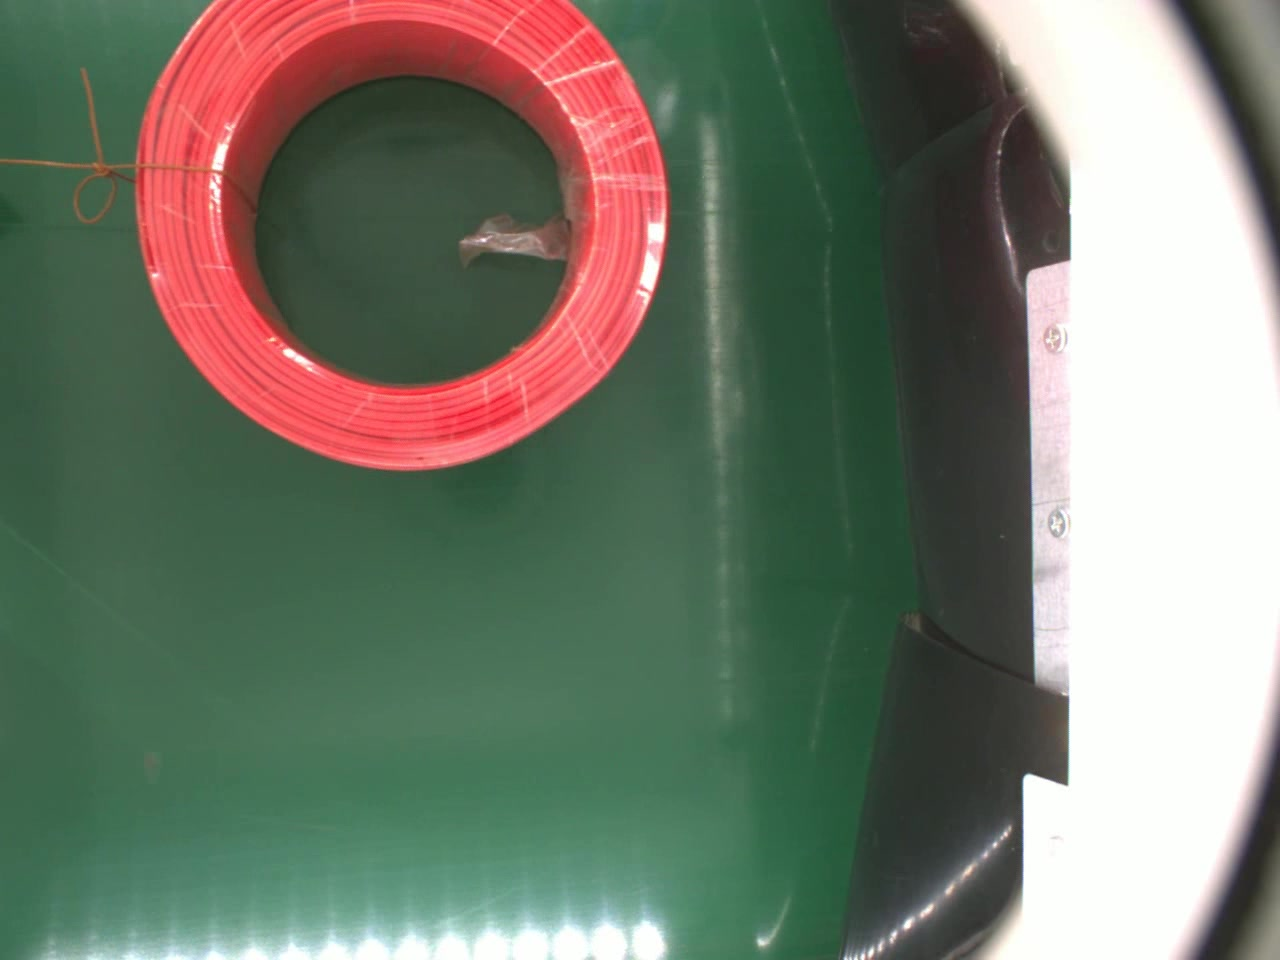red: (132, 0, 674, 473)
